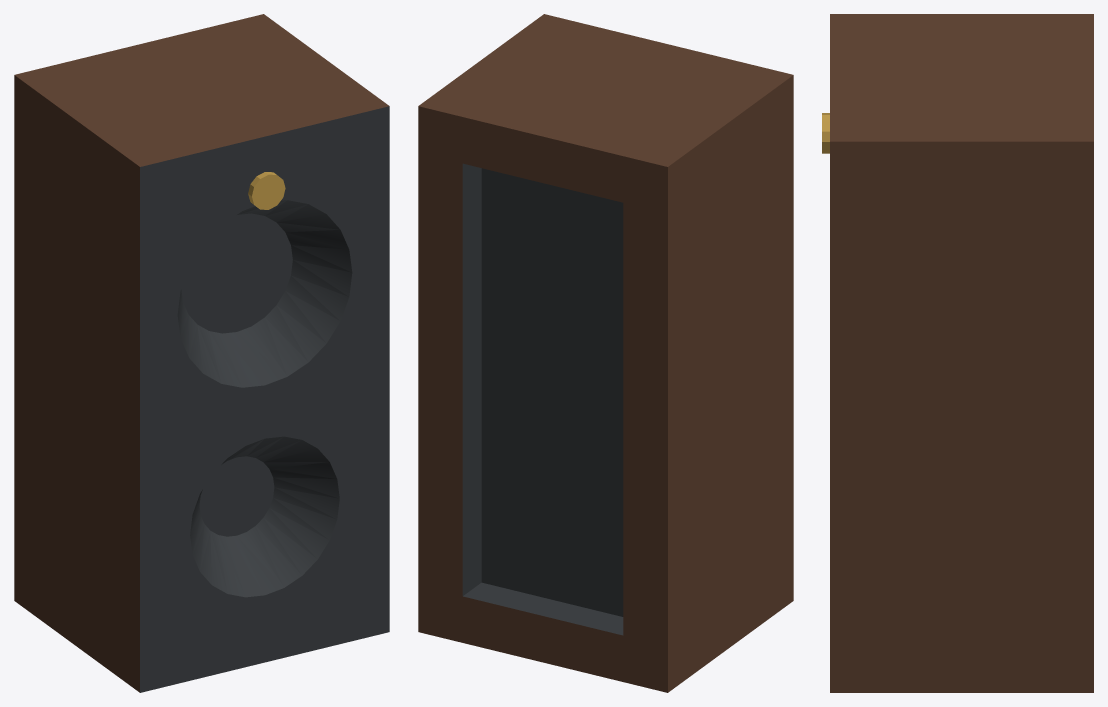
File: speakerSmall.glb
The picture shows the model from 3 angles, left to right: view 1: azimuth 30°, elevation 25°; view 2: azimuth 150°, elevation 25°; view 3: azimuth 270°, elevation 25°; orthographic projection. The views are drawn at different scales.
Parts seen in each view (by area): view 1: speakerSmall(Clone); view 2: speakerSmall(Clone); view 3: speakerSmall(Clone).
Part boxes in pixels (<box>): speakerSmall(Clone): <box>14,14,389,692</box>; speakerSmall(Clone): <box>418,14,793,692</box>; speakerSmall(Clone): <box>822,14,1093,692</box>.
Size of the model in its own units: 0.148 by 0.298 by 0.1332.
